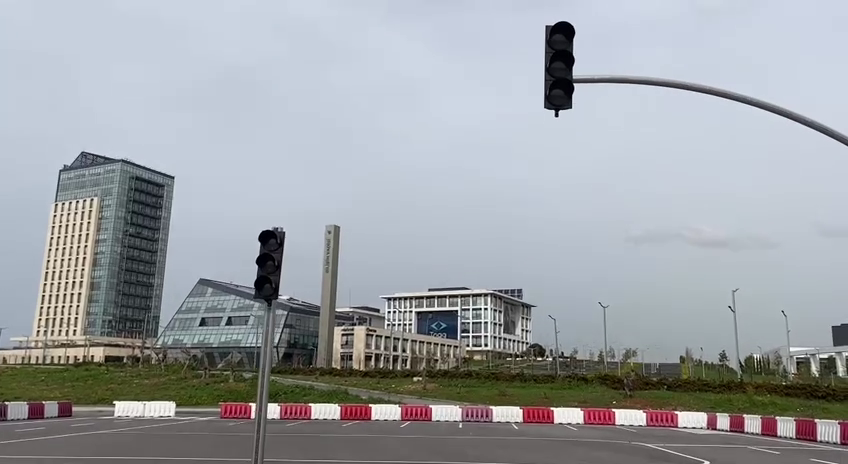trafficLight: (537, 17, 577, 120), (251, 223, 289, 307)
